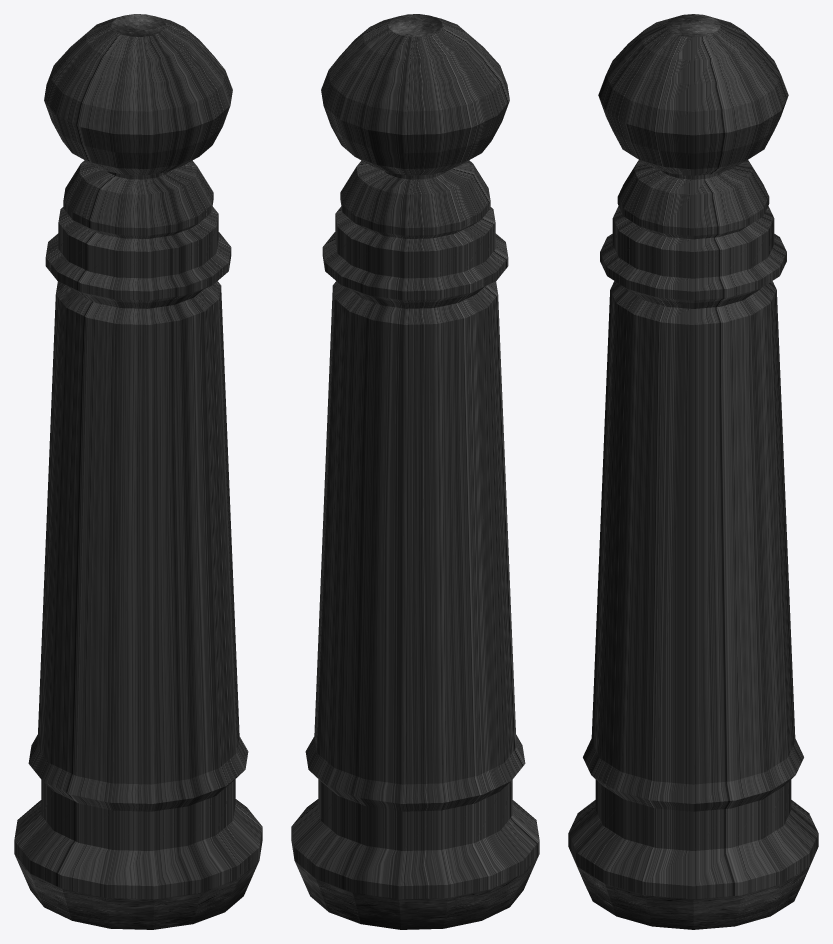
File: Post.fbx
3 renders of one model, left to right at view 1: azimuth 30°, elevation 25°; view 2: azimuth 150°, elevation 25°; view 3: azimuth 270°, elevation 25°, orthographic.
Visible parts, largest first — view 1: Post; view 2: Post; view 3: Post.
Part boxes in pixels (x1=…): Post: x1=14, y1=14, x2=262, y2=929; Post: x1=291, y1=14, x2=539, y2=929; Post: x1=568, y1=14, x2=818, y2=929.
Size of the model in its own units: 152 by 575 by 152.
